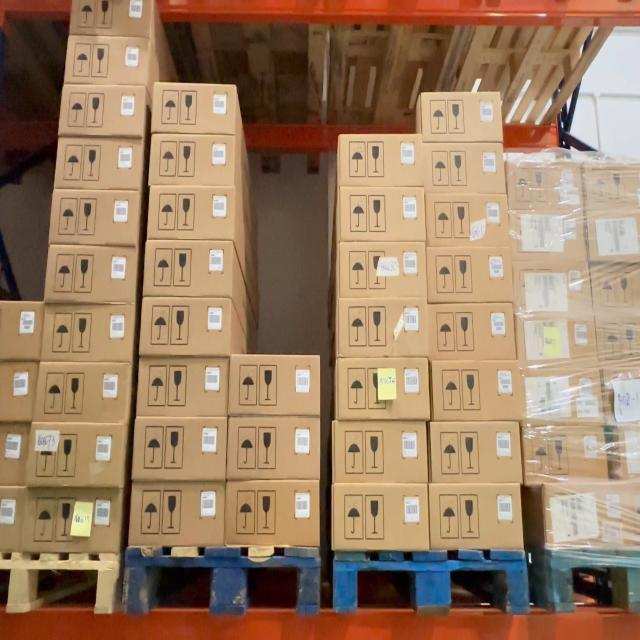box: (226, 414, 324, 482), (331, 483, 428, 550), (541, 483, 640, 547), (429, 483, 524, 549), (228, 352, 325, 416), (228, 482, 323, 546), (332, 420, 428, 483), (130, 483, 226, 546), (28, 424, 123, 486), (429, 420, 523, 482), (135, 418, 227, 480), (26, 491, 120, 551), (337, 359, 429, 420), (37, 365, 133, 423), (42, 305, 138, 362), (140, 358, 230, 418), (47, 245, 137, 302), (522, 424, 613, 480), (432, 362, 520, 419), (339, 299, 428, 355), (144, 240, 233, 296), (142, 298, 231, 352), (337, 134, 425, 188), (340, 245, 427, 299), (430, 304, 516, 358), (428, 247, 512, 302), (51, 192, 138, 245), (147, 187, 232, 241), (56, 137, 141, 190), (427, 192, 509, 246), (523, 368, 602, 423), (341, 189, 424, 241), (64, 36, 149, 85), (61, 88, 145, 137), (152, 135, 235, 184), (515, 260, 591, 313), (518, 314, 597, 364), (423, 94, 503, 143), (155, 86, 236, 134), (510, 162, 585, 212), (426, 144, 504, 192), (511, 212, 585, 258), (70, 0, 150, 38), (585, 164, 640, 209), (590, 212, 640, 260), (0, 302, 41, 358), (595, 266, 639, 317), (602, 371, 640, 424), (598, 320, 640, 366), (0, 364, 35, 419), (0, 425, 27, 484), (1, 488, 25, 550), (621, 427, 640, 481)
